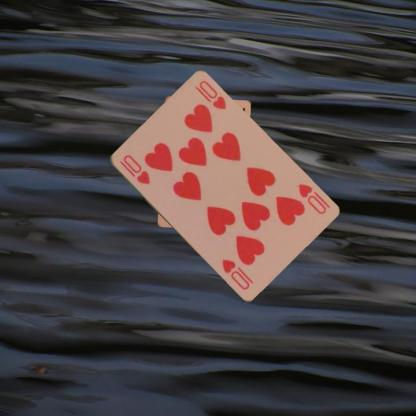10h: (116, 152, 151, 185), (295, 181, 327, 215)
